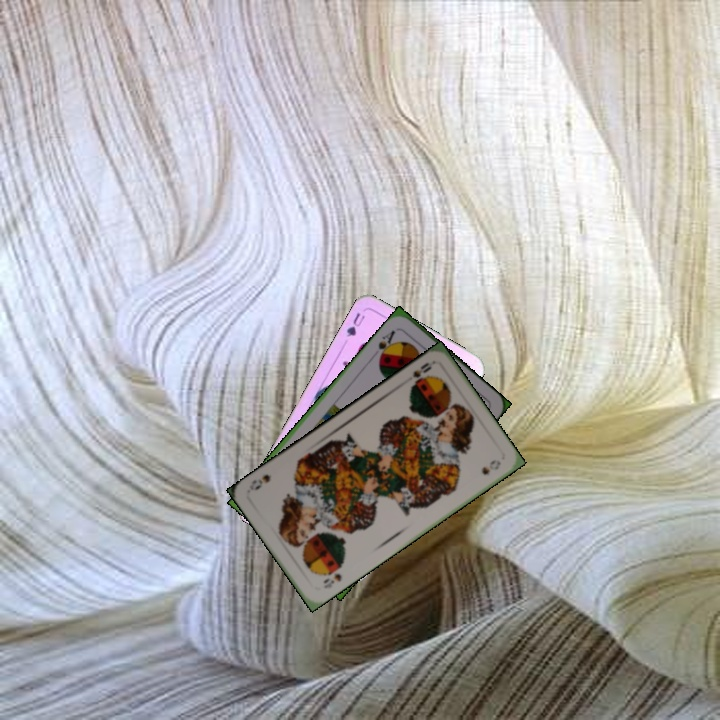GU: (342, 309, 368, 339)
SA: (374, 326, 398, 362)
SO: (406, 358, 436, 390), (319, 562, 345, 591)
